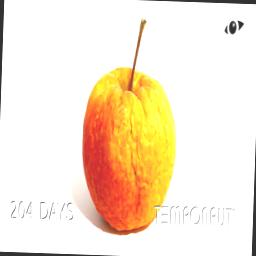Apple Overripe: (78, 0, 185, 236)
